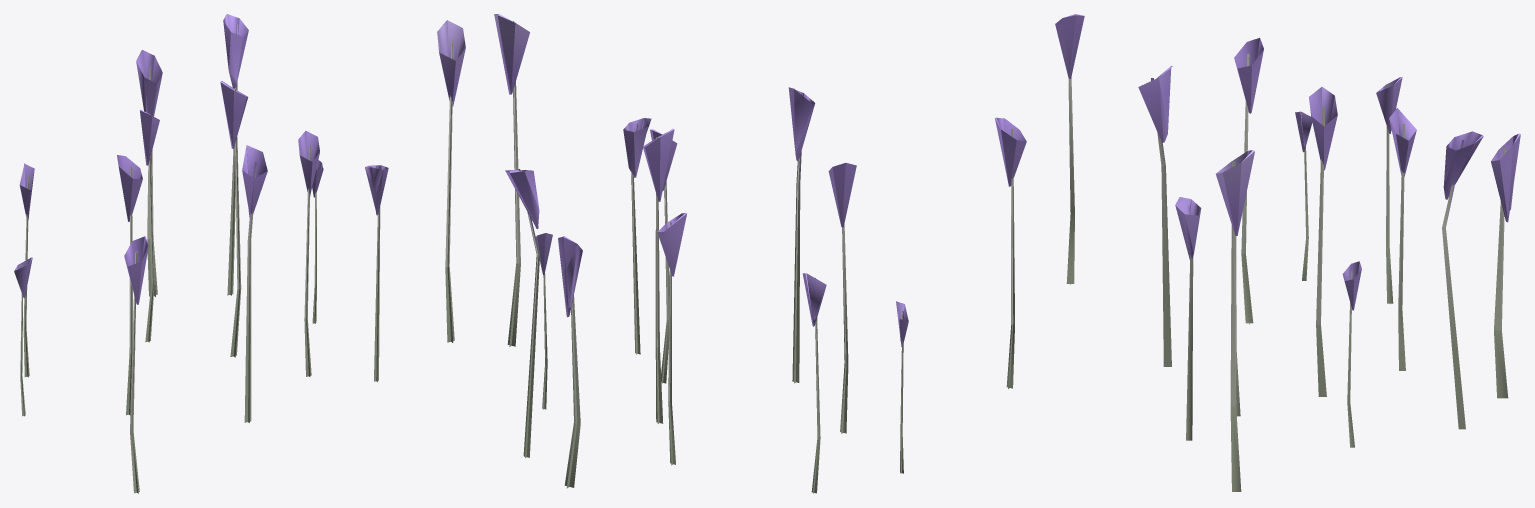
File: flower_lavender_low.glb
3 views of the same model, side by side, from view 1: azimuth 30°, elevation 25°; view 2: azimuth 150°, elevation 25°; view 3: azimuth 270°, elevation 25° (orthographic). The views are drawn at different scales.
Visible parts, largest first — view 1: Flower 5_2_C; view 2: Flower 5_2_C; view 3: Flower 5_2_C.
Boxes of the visible parts, x1,y1,x2,y2 form: Flower 5_2_C: [14, 14, 465, 493]; Flower 5_2_C: [494, 14, 1026, 493]; Flower 5_2_C: [1055, 14, 1520, 491].
Bounding box in the file's own units: 0.5006 × 0.36 × 0.4419.
Materials: 1 (1 with a texture image).
